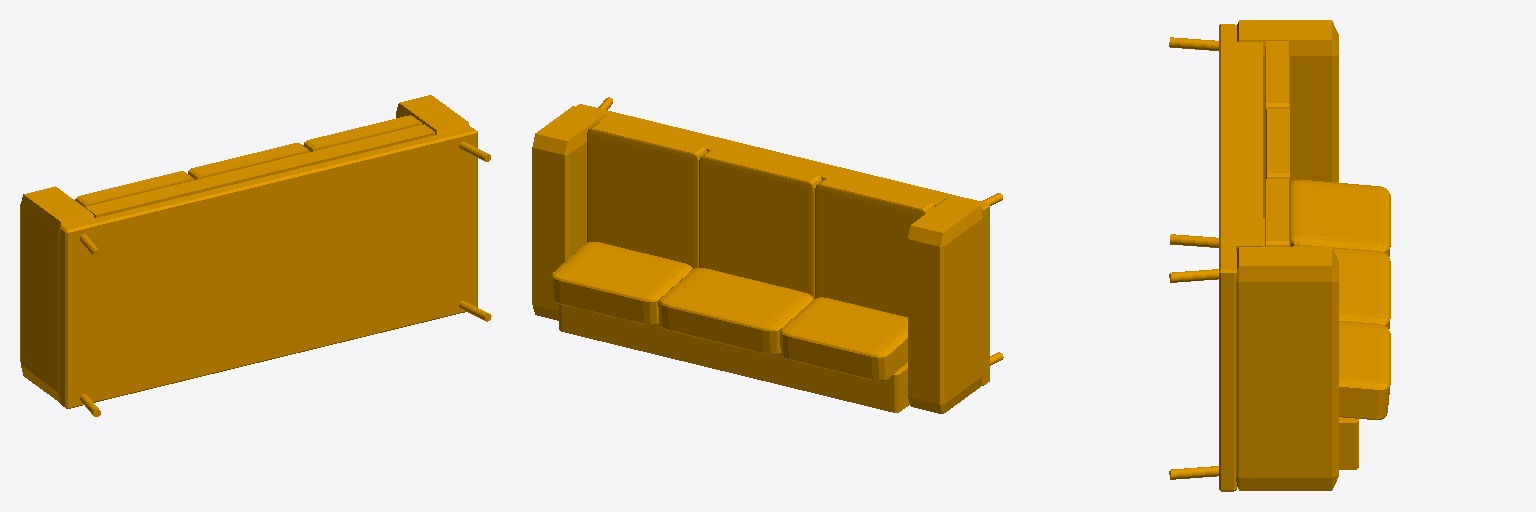
robot.urdf — none:
<robot name="none">
       <link name="none">
           <visual>
               <origin xyz="0 0 0" />
               <geometry>
                   <mesh filename="Koltuk.obj" scale="0.7 0.7 0.7" />
               </geometry>
           </visual>
          <collision>
<origin rpy="1.57 0 0" xyz="0 0 0.5" />
              <geometry>
                  <box size="0.741117 1.000000 0.761492" />
              </geometry>
          </collision>

          <inertial>
            <mass value="0.0" />
            <inertia ixx="0.05" ixy="0.0" ixz="0.0" iyy="0.05" iyz="0.0" izz="0.05"/>
          </inertial>
      </link>
  </robot>

--- Render facts (derived) ---
The picture shows the robot from 3 angles, left to right: view 1: azimuth 30°, elevation 25°; view 2: azimuth 150°, elevation 25°; view 3: azimuth 270°, elevation 25°; orthographic projection.
Model none with 1 links and 0 joints (none), rooted at none, posed all joints at 0.
Links seen in each view (by area): view 1: none; view 2: none; view 3: none.
Boxes of the visible links, box(x1,y1,x2,y2) form: none: box(20, 95, 491, 416); none: box(532, 97, 1003, 413); none: box(1169, 20, 1390, 491).
Size in the robot's own frame: 1.4 by 0.5263 by 0.5963 metres.
1 mesh visuals loaded from 1 distinct referenced files (1 OBJ).